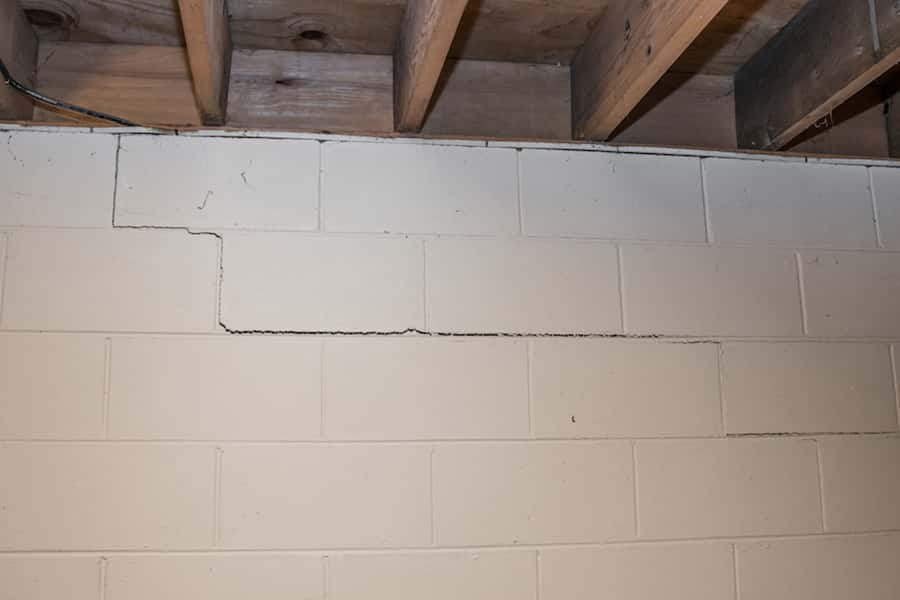stairstep_crack: (106, 128, 899, 441)
